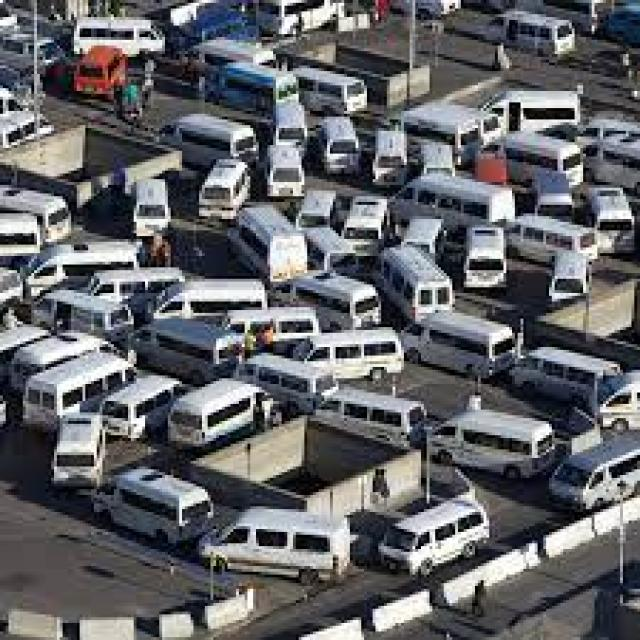MiniBus taxi: (199, 512, 359, 589), (91, 461, 216, 543), (378, 492, 495, 578), (430, 406, 558, 481), (546, 432, 640, 512)
